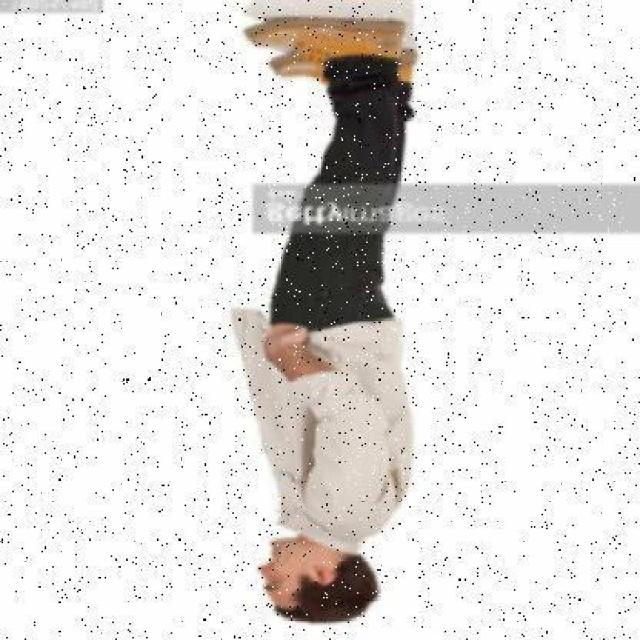person: (235, 19, 420, 626)
